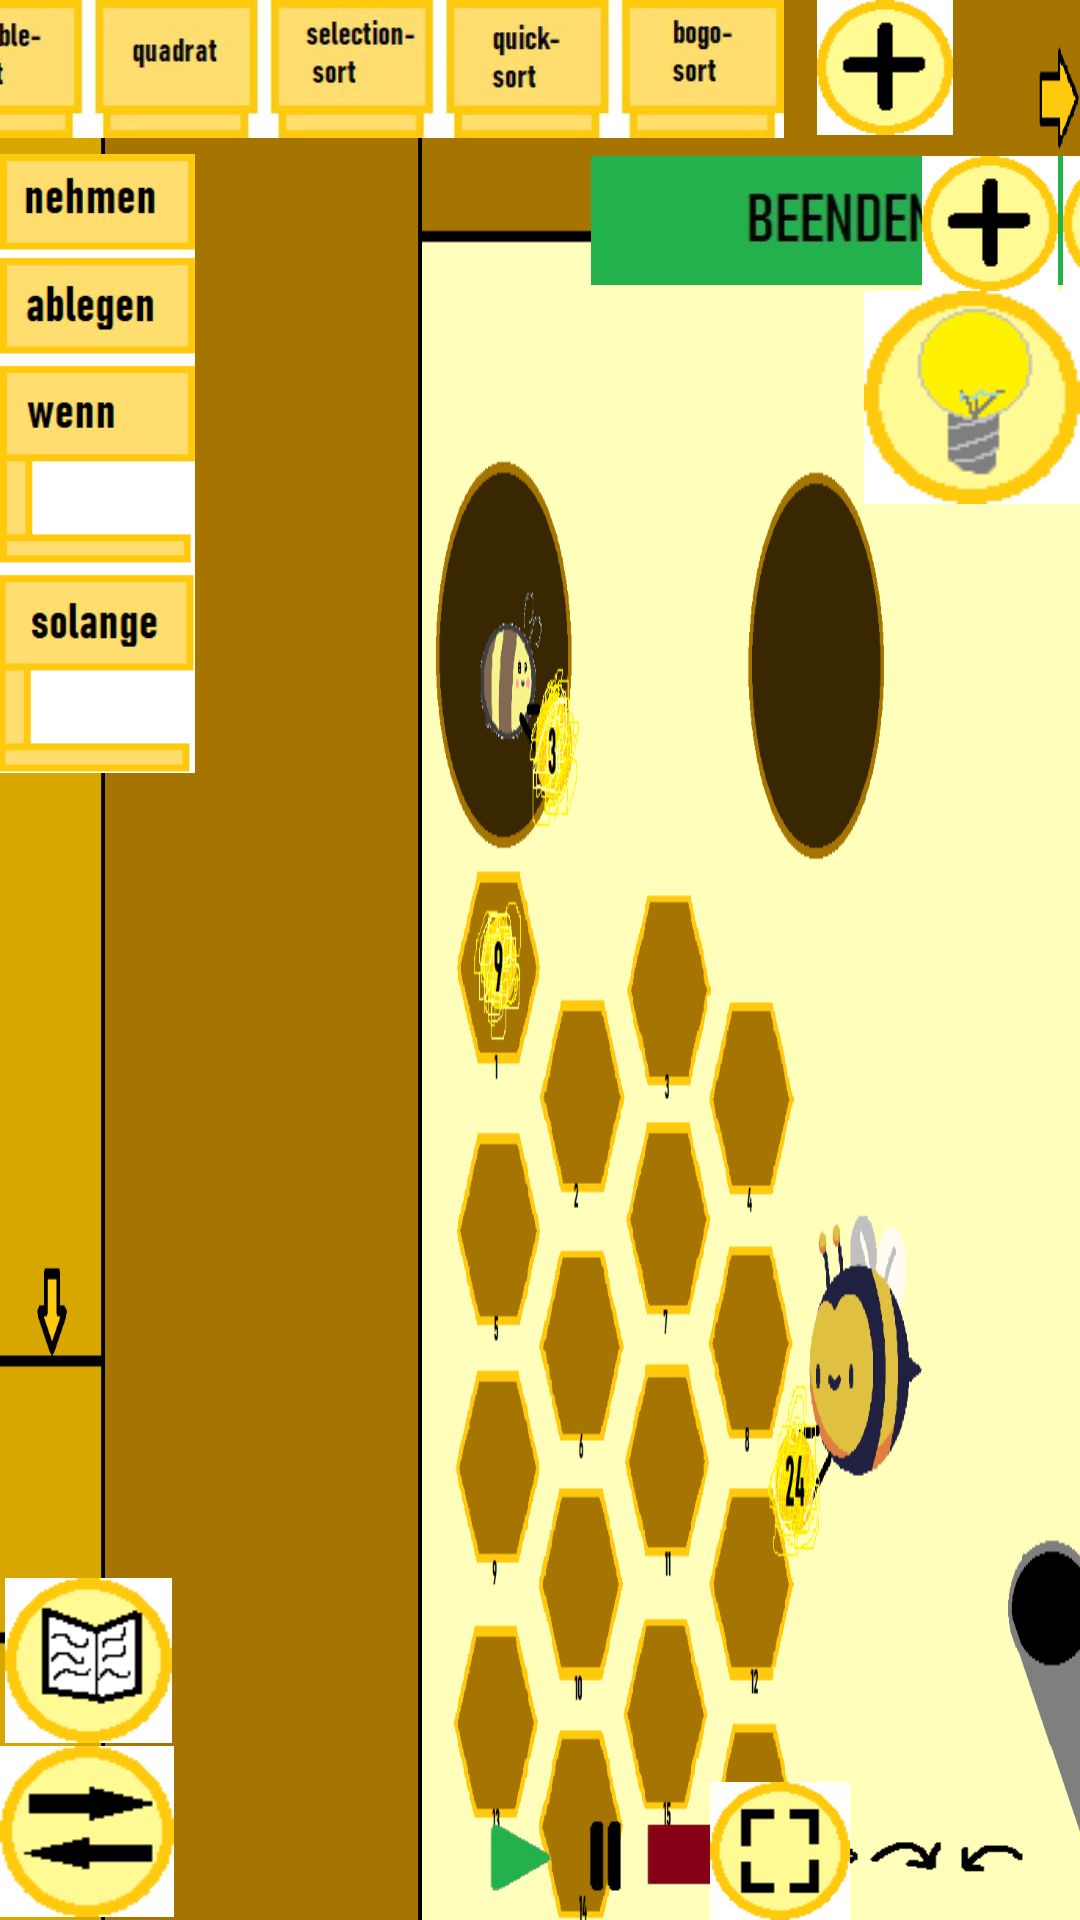

Point at icon controls on the screen. Image size 1080w x 1920h, points as point (x, y).
buch: point (88, 1660)
tipp: point (972, 397)
wechsel: point (87, 1831)
